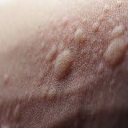Hives: (48, 22, 125, 77)
